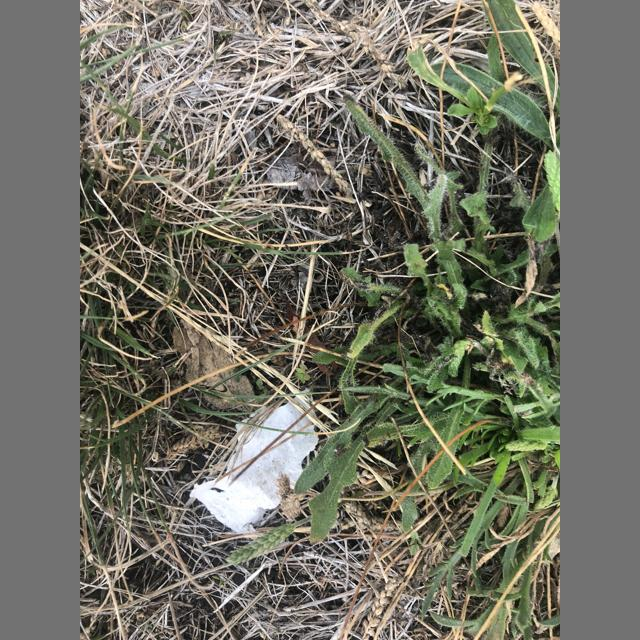litter: (190, 389, 319, 539)
